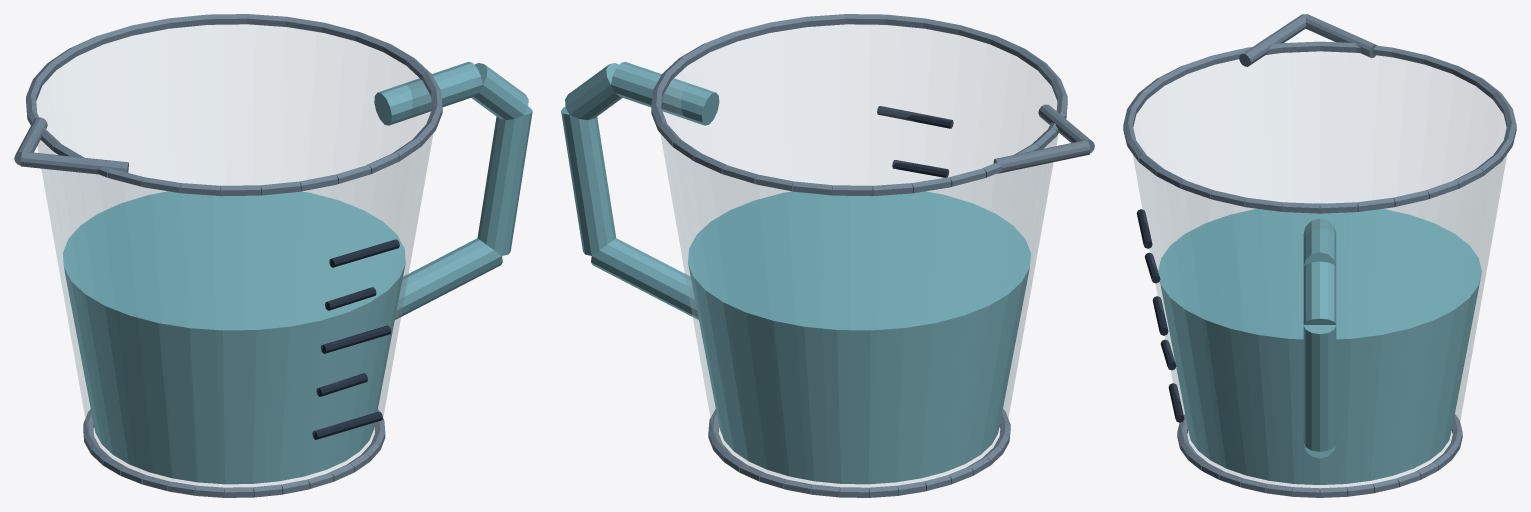
Rendered from jug.glb.
The picture shows the model from 3 angles, left to right: view 1: azimuth 30°, elevation 25°; view 2: azimuth 150°, elevation 25°; view 3: azimuth 270°, elevation 25°; orthographic projection. The views are drawn at different scales.
Parts seen in each view (by area): view 1: glass wall, liquid, handle2, handle3, handle0, handle1, pour lip0, tick 4, tick 2, tick 0, pour lip1; view 2: glass wall, liquid, handle2, handle3, handle0, handle1, pour lip1, pour lip0, tick 4; view 3: glass wall, liquid, handle2, handle1, handle0, pour lip0, pour lip1.
Boxes of the visible parts, <box> form: glass wall: <box>37,25,432,487</box>; liquid: <box>62,191,405,484</box>; handle2: <box>477,107,532,255</box>; handle3: <box>395,238,502,319</box>; handle0: <box>374,61,482,125</box>; handle1: <box>471,63,528,120</box>; pour lip0: <box>20,151,128,174</box>; tick 4: <box>329,239,399,267</box>; tick 2: <box>320,325,391,353</box>; tick 0: <box>312,411,382,439</box>; pour lip1: <box>14,117,47,165</box>; glass wall: <box>660,25,1058,487</box>; liquid: <box>688,191,1030,484</box>; handle2: <box>561,106,616,255</box>; handle3: <box>591,238,698,319</box>; handle0: <box>611,61,719,125</box>; handle1: <box>565,63,622,120</box>; pour lip1: <box>993,140,1090,173</box>; pour lip0: <box>1038,104,1094,152</box>; tick 4: <box>877,106,953,128</box>; glass wall: <box>1133,52,1506,488</box>; liquid: <box>1158,203,1481,484</box>; handle2: <box>1303,325,1336,451</box>; handle1: <box>1303,261,1336,324</box>; handle0: <box>1303,218,1336,266</box>; pour lip0: <box>1239,14,1306,66</box>; pour lip1: <box>1305,14,1376,58</box>.
Bounding box in the file's own units: 1.89 × 1.19 × 1.31.
